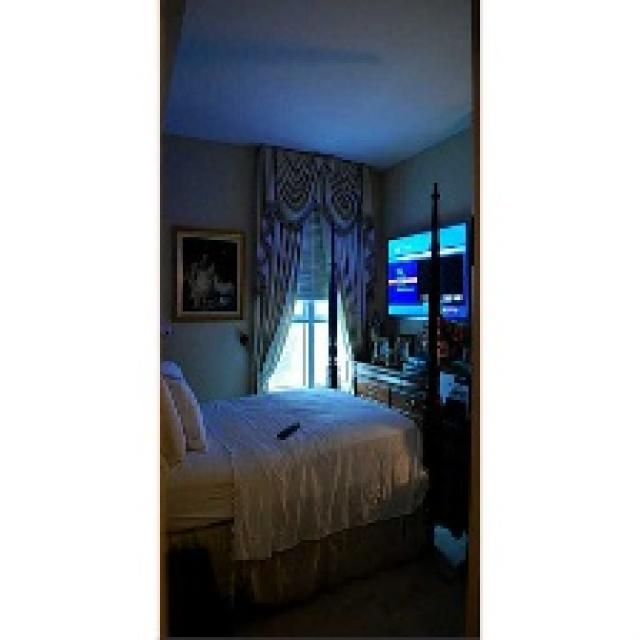Bed: (160, 357, 429, 612)
